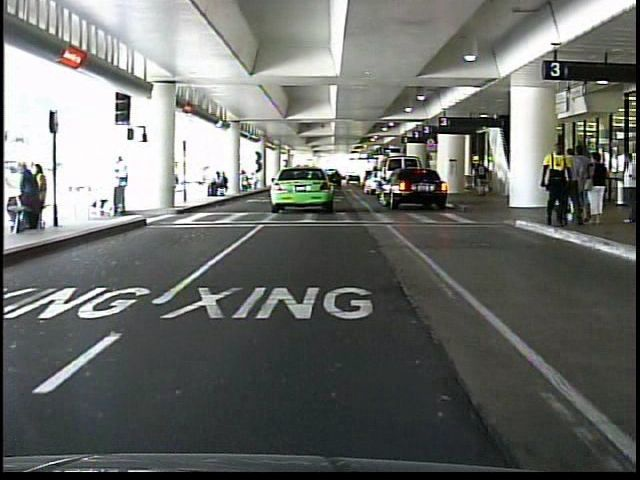person: (534, 144, 574, 237), (564, 145, 590, 233), (109, 157, 142, 224), (586, 149, 606, 233), (470, 156, 495, 204)
